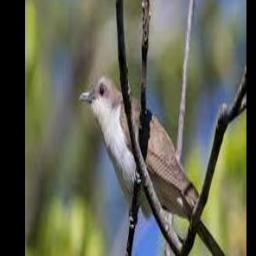Cuckoo: (80, 75, 243, 256)
